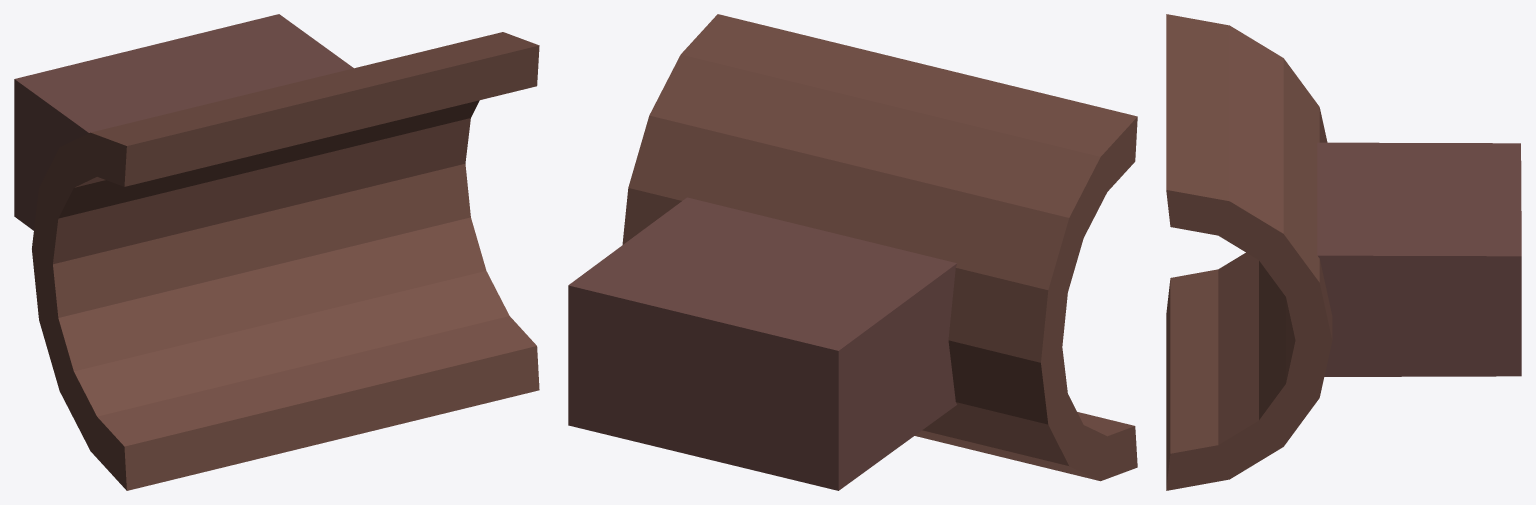
Rendered from Tank_4_Turret.glb.
The picture shows the model from 3 angles, left to right: view 1: azimuth 30°, elevation 25°; view 2: azimuth 150°, elevation 25°; view 3: azimuth 270°, elevation 25°; orthographic projection. The views are drawn at different scales.
Visible parts, largest first — view 1: Tank_Turret_Cylinder.001; view 2: Tank_Turret_Cylinder.001; view 3: Tank_Turret_Cylinder.001.
Boxes of the visible parts, left/top/right/bottom form: Tank_Turret_Cylinder.001: left=14, top=14, right=539, bottom=490; Tank_Turret_Cylinder.001: left=568, top=14, right=1137, bottom=490; Tank_Turret_Cylinder.001: left=1166, top=14, right=1521, bottom=490.
Size of the model in its own units: 2.25 by 1.8 by 1.93.
